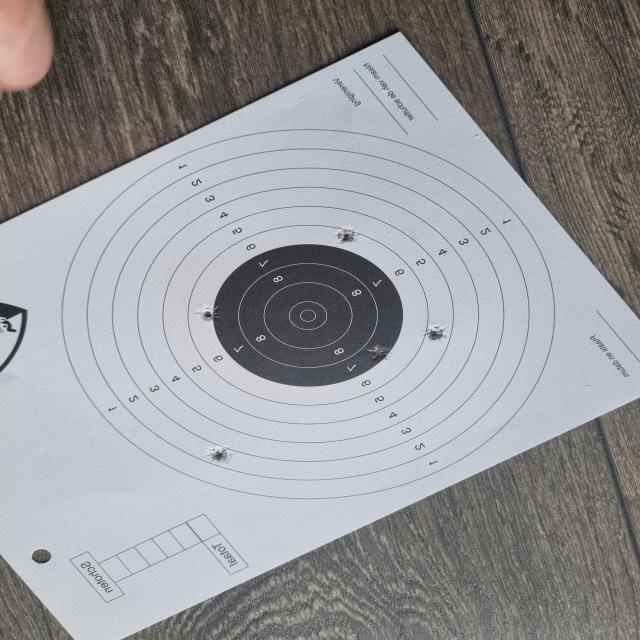2: (206, 448, 233, 463)
5: (423, 326, 447, 340)
6: (337, 228, 360, 243)
7: (367, 346, 394, 362), (195, 305, 220, 321)
Target: (61, 126, 559, 500)
black_contour: (213, 244, 403, 388)
